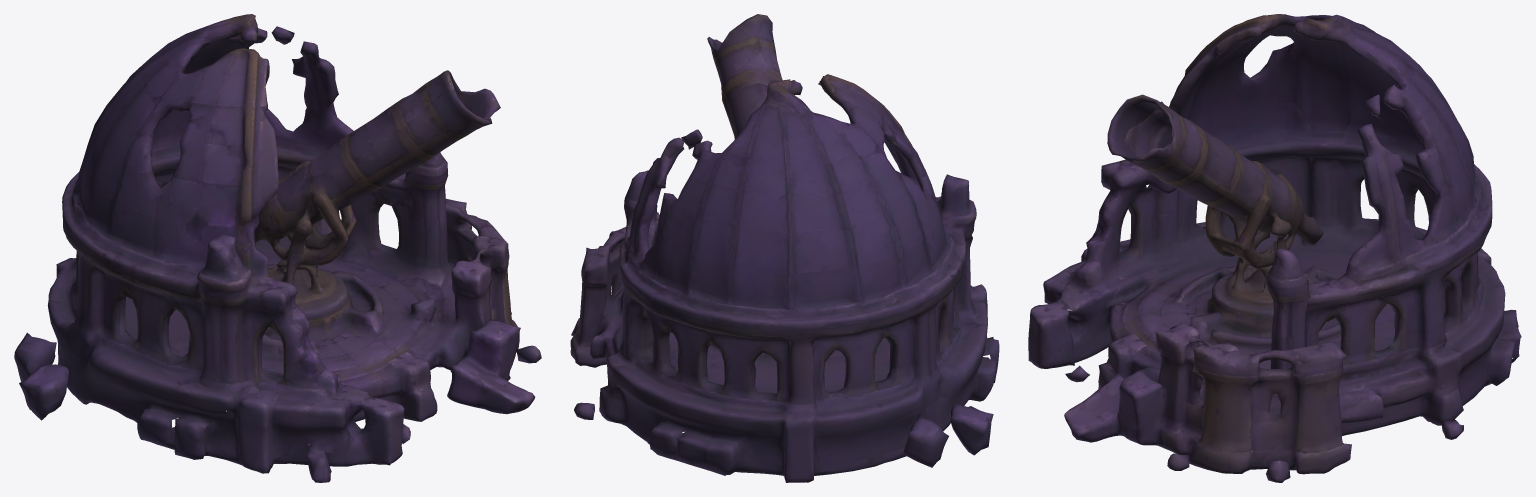
File: ruined_observatory.glb
3 views of the same model, side by side, from view 1: azimuth 30°, elevation 25°; view 2: azimuth 150°, elevation 25°; view 3: azimuth 270°, elevation 25° (orthographic). The views are drawn at different scales.
Visible parts, largest first — view 1: tripo_node_72d8926f; view 2: tripo_node_72d8926f; view 3: tripo_node_72d8926f.
Part boxes in pixels (bbox=[...]): tripo_node_72d8926f: bbox=[14, 14, 541, 482]; tripo_node_72d8926f: bbox=[570, 14, 999, 482]; tripo_node_72d8926f: bbox=[1028, 14, 1521, 482].
Size of the model in its own units: 99.56 by 70.26 by 90.93.
Materials: 1 (1 with a texture image).
